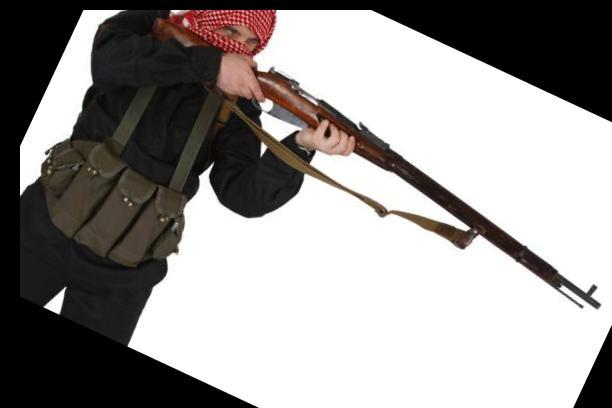larga: (153, 17, 602, 311)
